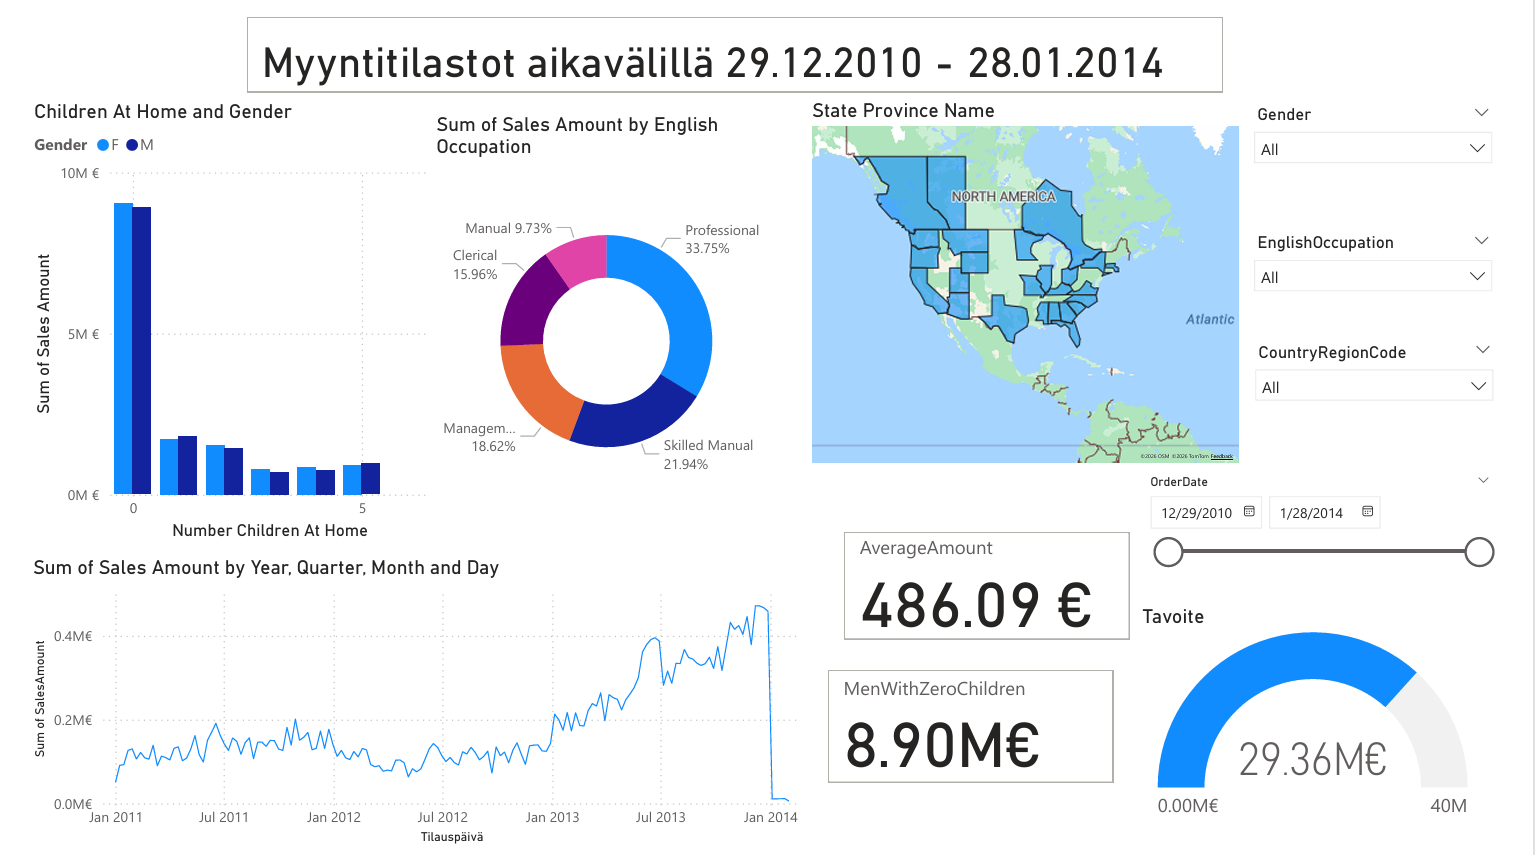

The dashboard page shown, as its layout file describes it:
{"tool":"powerbi","page":{"name":"Page 1","canvas":[1280,720],"ordinal":0},"visuals":[{"type":"clusteredColumnChart","title":"Children At Home and Gender","fields":{"Category":["DimCustomer.NumberChildrenAtHome"],"Y":["Sum(FactInternetSales.SalesAmount)"],"Series":["DimCustomer.Gender"]},"box":[10,74.6,349.6,383.1],"z":0},{"type":"lineChart","title":"Sum of Sales Amount by Year, Quarter, Month and Day","fields":{"Y":["Sum(FactInternetSales.SalesAmount)"],"Category":["FactInternetSales.WeedDate.Variation.Date Hierarchy.Year","FactInternetSales.WeedDate.Variation.Date Hierarchy.Quarter","FactInternetSales.WeedDate.Variation.Date Hierarchy.Month","FactInternetSales.WeedDate.Variation.Date Hierarchy.Day"]},"box":[9.4,467.1,683.9,253.1],"z":1000},{"type":"donutChart","title":"Sum of Sales Amount by English Occupation","fields":{"Category":["DimCustomer.EnglishOccupation"],"Y":["Sum(FactInternetSales.SalesAmount)"]},"box":[355.8,85.8,302.3,355.8],"z":2000},{"type":"azureMap","title":"State Province Name","fields":{"Category":["DimGeography.StateProvinceName"]},"box":[678.5,74,376.9,317.7],"z":3000},{"type":"slicer","fields":{"Values":["DimCustomer.Gender"]},"box":[1053.6,74.6,225.2,85.8],"z":4000},{"type":"slicer","fields":{"Values":["DimCustomer.EnglishOccupation"]},"box":[1053.6,185.3,225.2,80.9],"z":5000},{"type":"slicer","fields":{"Values":["DimGeography.CountryRegionCode"]},"box":[1054.9,278.6,225.2,80.9],"z":6000},{"type":"slicer","fields":{"Values":["FactInternetSales.OrderDate"]},"box":[961.6,391.8,317.2,102],"z":7000},{"type":"gauge","title":"Tavoite","fields":{"Y":["Sum(FactInternetSales.SalesAmount)"],"MaxValue":["FactInternetSales.Goal"]},"box":[962.8,508.8,303.5,194.1],"z":8000},{"type":"cardVisual","fields":{"Data":["MeasureTable (2).AverageAmount"]},"box":[706.8,441.6,255.8,102.3],"z":9000},{"type":"cardVisual","fields":{"Data":["MeasureTable (2).Title"]},"box":[192.5,0,849.5,74],"z":10000},{"type":"cardVisual","fields":{"Data":["MeasureTable (2).MenWithZeroChildren"]},"box":[693.3,561.4,255.8,106.4],"z":11000}]}

Visuals, with their boxes in screenshot pixels (x1, y1, x2, y2), scaled from the page's 1280x720 canvas onto the 1535x855 screenshot:
"Children At Home and Gender" clusteredColumnChart: bbox=[12, 89, 431, 544]
"Sum of Sales Amount by Year, Quarter, Month and Day" lineChart: bbox=[11, 555, 831, 854]
"Sum of Sales Amount by English Occupation" donutChart: bbox=[427, 102, 789, 524]
"State Province Name" azureMap: bbox=[814, 88, 1266, 465]
slicer - DimCustomer.Gender: bbox=[1263, 89, 1534, 190]
slicer - DimCustomer.EnglishOccupation: bbox=[1263, 220, 1534, 316]
slicer - DimGeography.CountryRegionCode: bbox=[1265, 331, 1534, 427]
slicer - FactInternetSales.OrderDate: bbox=[1153, 465, 1534, 586]
"Tavoite" gauge: bbox=[1155, 604, 1519, 835]
cardVisual - MeasureTable (2).AverageAmount: bbox=[848, 524, 1154, 646]
cardVisual - MeasureTable (2).Title: bbox=[231, 0, 1250, 88]
cardVisual - MeasureTable (2).MenWithZeroChildren: bbox=[831, 667, 1138, 793]
